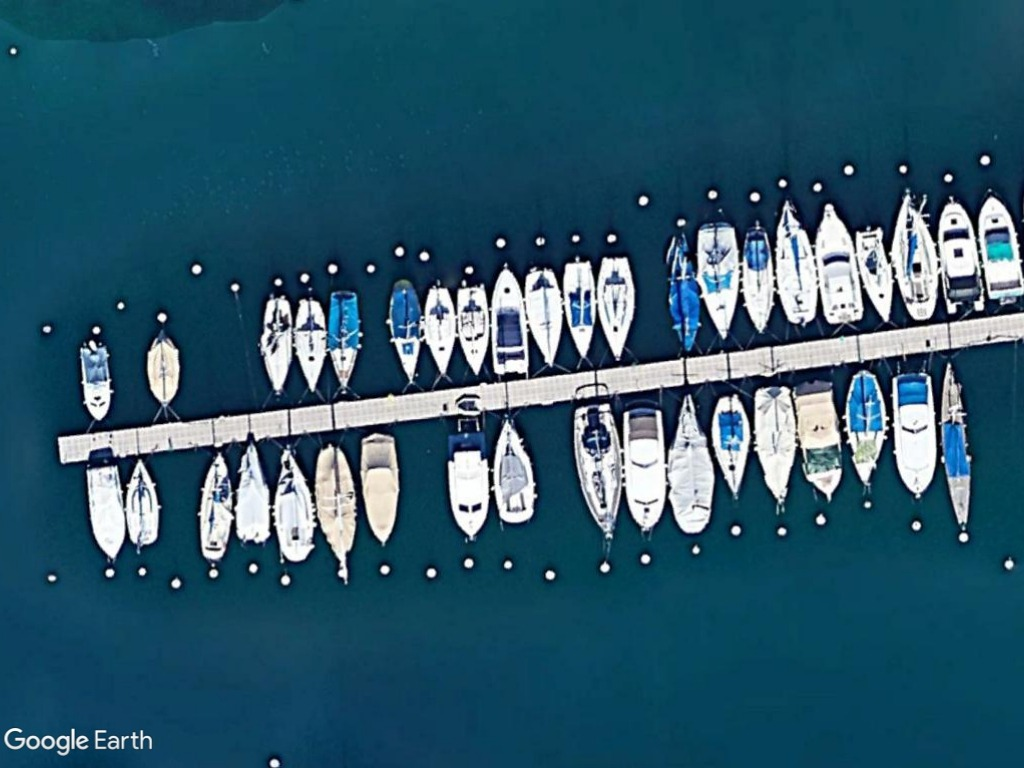boat: (661, 388, 719, 534), (567, 402, 625, 547), (807, 195, 867, 327), (440, 414, 496, 550), (965, 186, 1023, 317), (616, 397, 668, 537), (749, 379, 802, 515), (307, 431, 356, 576), (935, 357, 976, 528), (353, 423, 406, 553), (935, 192, 990, 317), (768, 197, 818, 334), (886, 362, 936, 498), (793, 372, 845, 501), (889, 191, 938, 323), (694, 215, 744, 344), (841, 363, 890, 491), (587, 246, 638, 366), (271, 434, 314, 573), (483, 259, 530, 386), (490, 410, 542, 524), (520, 256, 570, 373), (190, 444, 236, 569), (705, 385, 754, 499), (323, 278, 368, 399), (79, 459, 130, 565), (384, 270, 427, 395), (451, 272, 498, 385), (664, 230, 703, 362), (226, 434, 269, 552), (851, 221, 900, 323), (256, 286, 297, 402), (738, 213, 778, 331), (419, 270, 458, 386), (136, 328, 188, 412), (73, 339, 120, 428), (118, 452, 162, 546), (559, 253, 597, 359), (295, 286, 329, 402)
